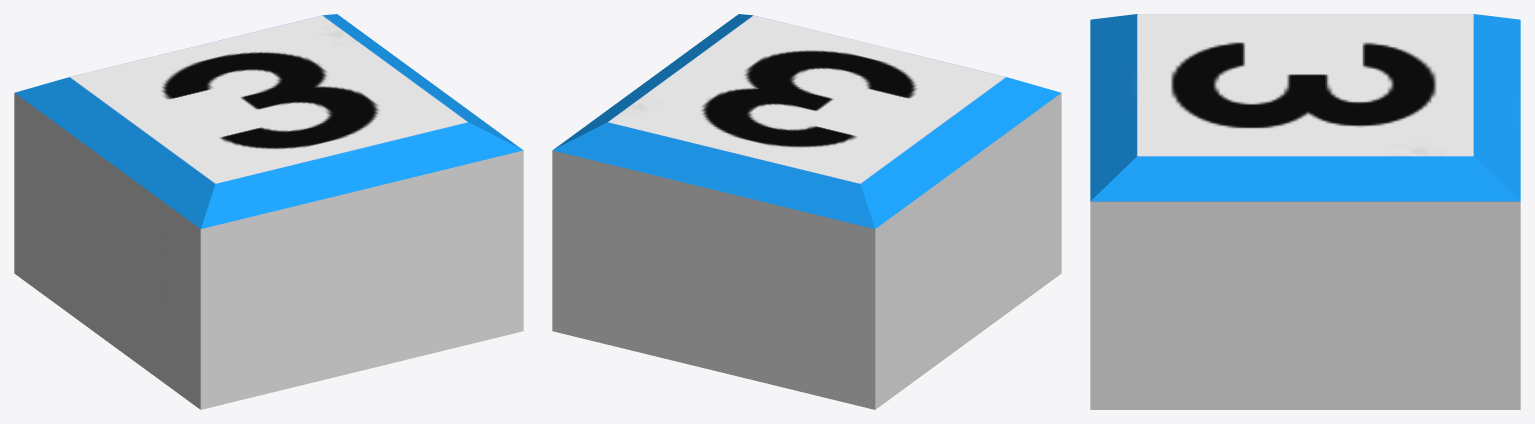
The picture shows the model from 3 angles, left to right: view 1: azimuth 30°, elevation 25°; view 2: azimuth 150°, elevation 25°; view 3: azimuth 270°, elevation 25°; orthographic projection. The views are drawn at different scales.
Parts seen in each view (by area): view 1: button.008; view 2: button.008; view 3: button.008.
Part boxes in pixels (x1,y1,x2,y2): button.008: (14,14,523,409); button.008: (552,14,1061,409); button.008: (1090,14,1520,409).
Bounding box in the file's own units: 20 × 12 × 20.
